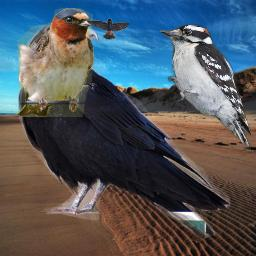Crow: (18, 22, 230, 238)
Swallow: (16, 8, 96, 117), (85, 18, 130, 40)
Woodpecker: (159, 24, 251, 150)
